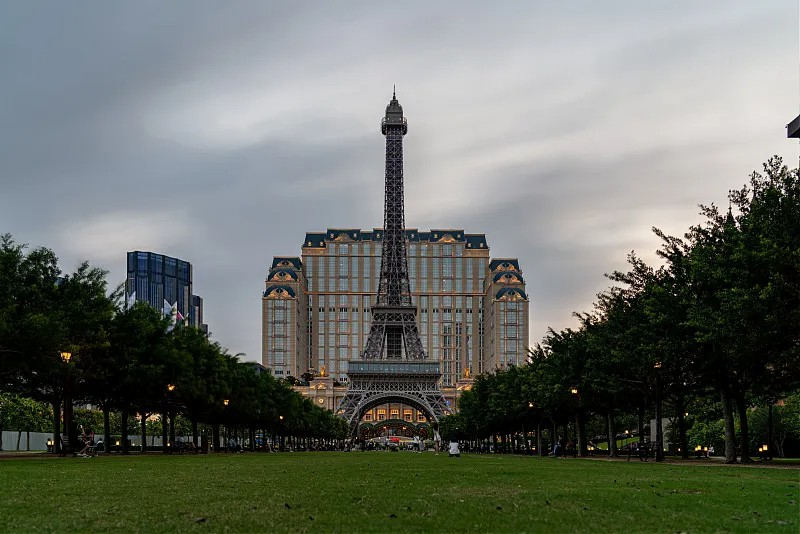Eiffel: (334, 84, 452, 431)
